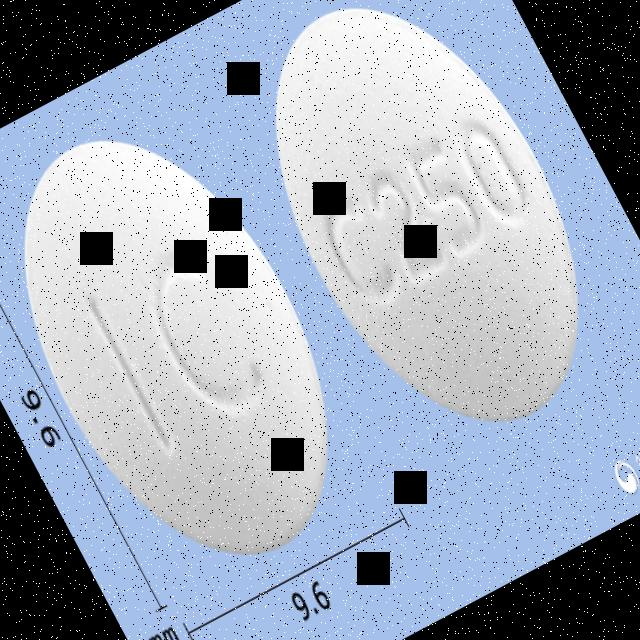Ciroctan - 500mg: (0, 80, 396, 608), (208, 0, 640, 477)
